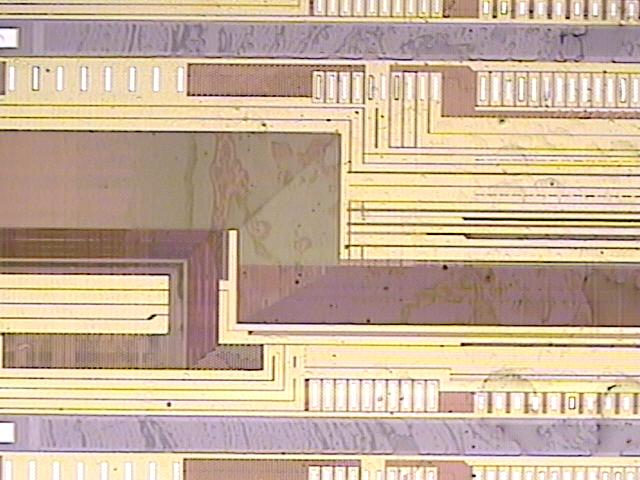PO CONTAMINATION: (1, 1, 640, 458)
